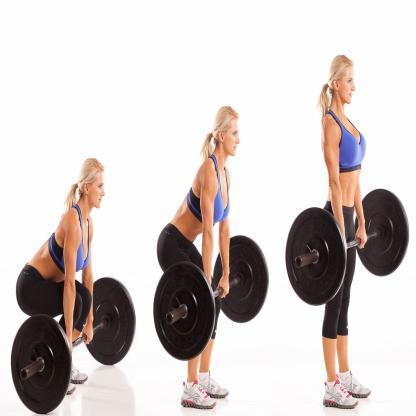barbell: (11, 278, 134, 414), (285, 189, 408, 307), (155, 235, 268, 359)
